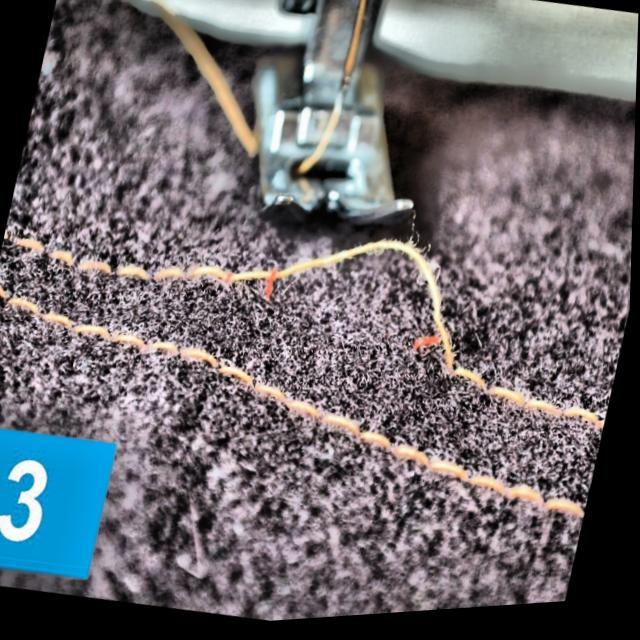Stitch: (154, 186, 541, 446)
